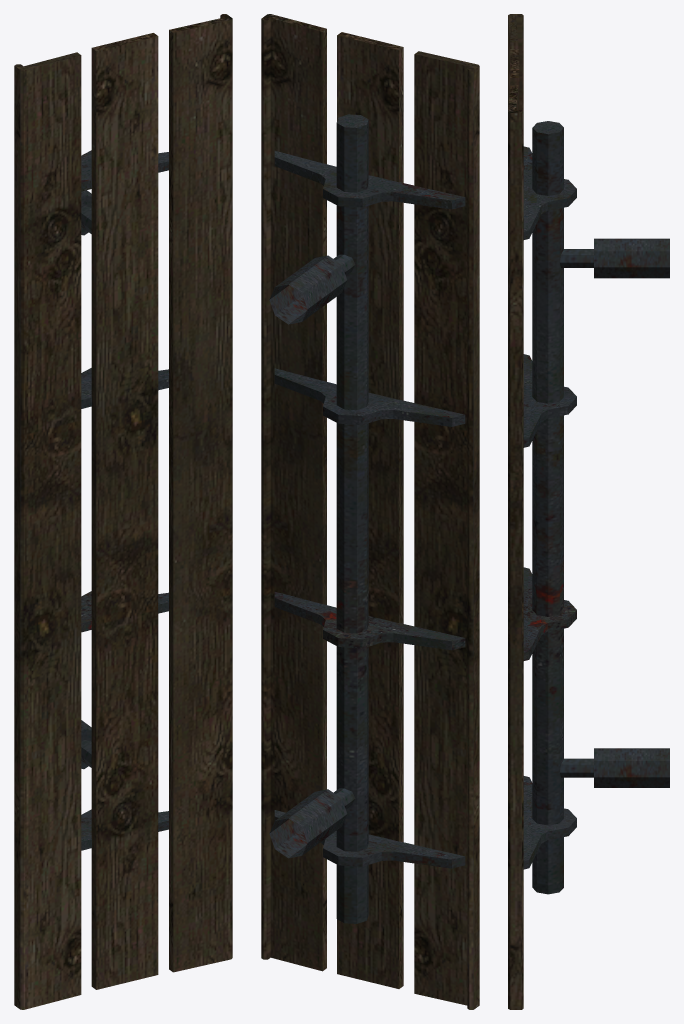
The model's file is bench03.dae.
3 views of the same model, side by side, from view 1: azimuth 30°, elevation 25°; view 2: azimuth 150°, elevation 25°; view 3: azimuth 270°, elevation 25° (orthographic). The views are drawn at different scales.
Parts seen in each view (by area): view 1: Mesh; view 2: Mesh; view 3: Mesh.
Boxes of the visible parts, x1=… form: Mesh: x1=14, y1=14, x2=232, y2=1009; Mesh: x1=261, y1=14, x2=479, y2=1009; Mesh: x1=508, y1=14, x2=669, y2=1009.
Size of the model in its own units: 23.13 by 15.99 by 97.86.
Materials: 1 (1 with a texture image).
